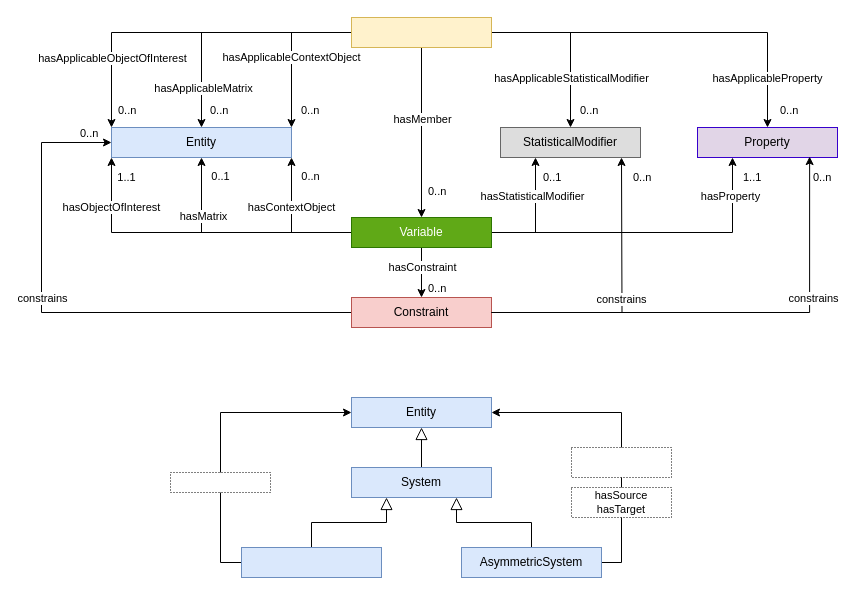
The diagram is 859 pixels wide and 595 high, and some of its shapes have lost their labels. The box of each missing label's shape, as (x1, y1, x2, y2) in pixels:
hasNumerator hasDenominator: (570, 446, 672, 478)
hasPart: (170, 472, 270, 492)
SymmetricSystem: (240, 546, 382, 578)
VariableSet: (350, 16, 492, 48)
